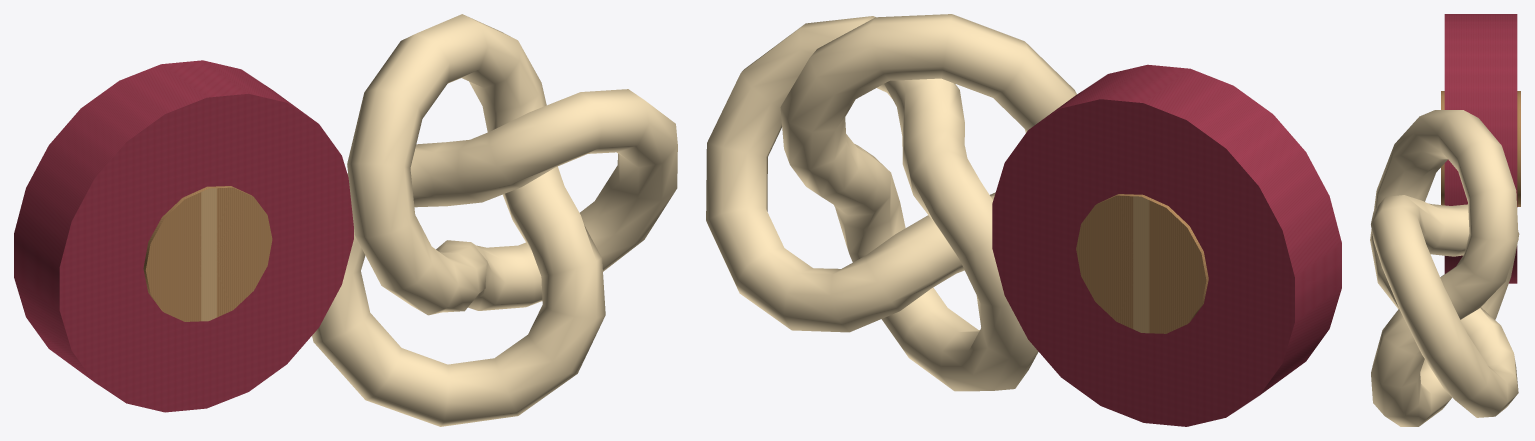
File: ch5_prop_decor_ribbon.glb
3 renders of one model, left to right at view 1: azimuth 30°, elevation 25°; view 2: azimuth 150°, elevation 25°; view 3: azimuth 270°, elevation 25°, orthographic. The views are drawn at different scales.
Parts seen in each view (by area): view 1: ch5_prop_decor_ribbon; view 2: ch5_prop_decor_ribbon; view 3: ch5_prop_decor_ribbon.
Part boxes in pixels (x1,y1,x2,y2): ch5_prop_decor_ribbon: (14, 14, 677, 426); ch5_prop_decor_ribbon: (706, 14, 1341, 426); ch5_prop_decor_ribbon: (1370, 14, 1520, 426).
Size of the model in its own units: 0.3107 by 0.1813 by 0.0831.
3 materials, 2 textured.
